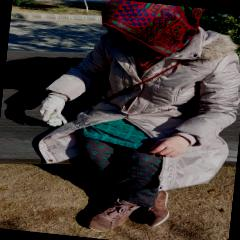gloved: (35, 92, 68, 126)
not-gloved: (148, 133, 188, 159)
